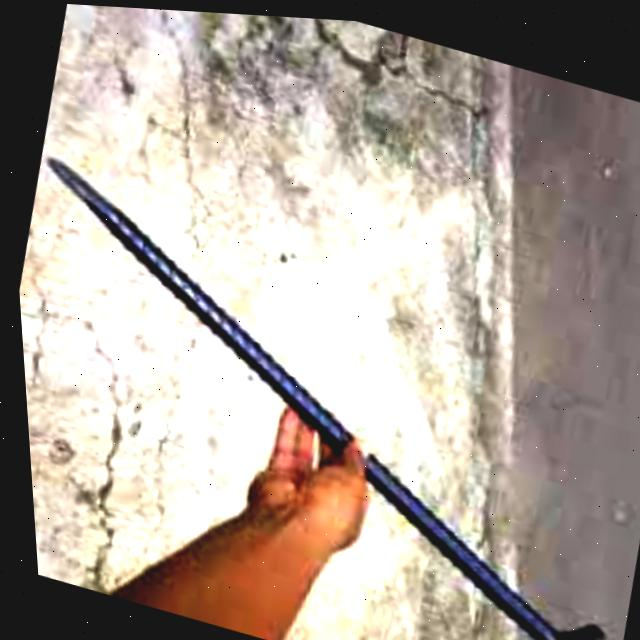crow bar: (6, 119, 640, 640)
